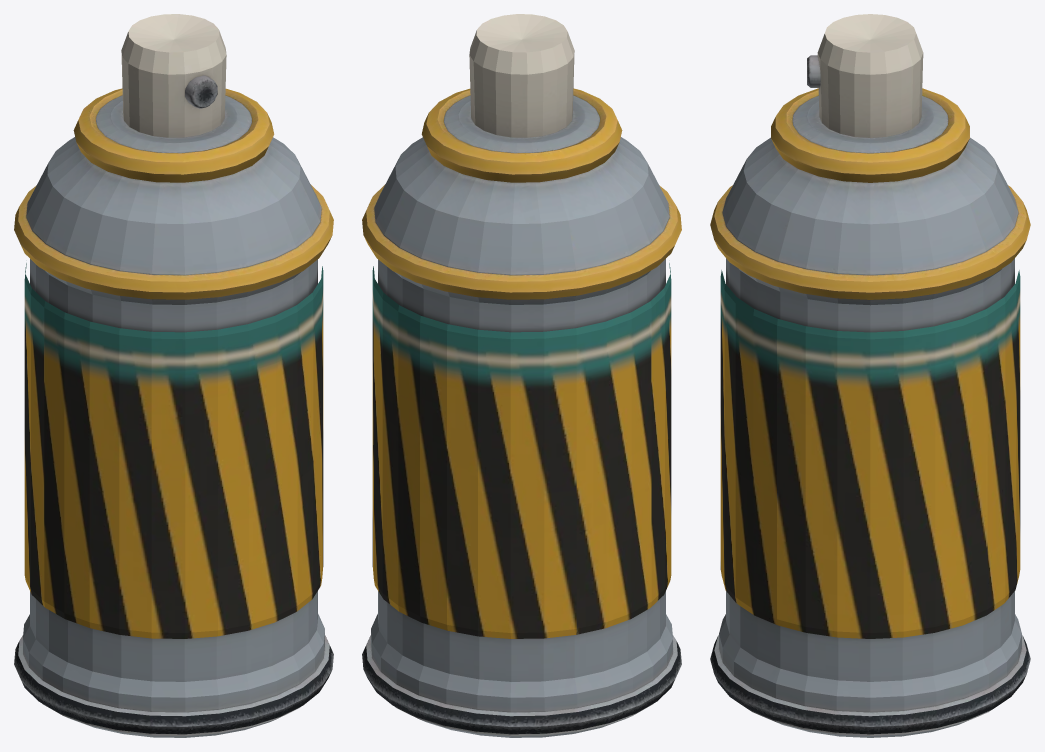
File: spray_can.glb
The picture shows the model from 3 angles, left to right: view 1: azimuth 30°, elevation 25°; view 2: azimuth 150°, elevation 25°; view 3: azimuth 270°, elevation 25°; orthographic projection.
Visible parts, largest first — view 1: SprayCan; view 2: SprayCan; view 3: SprayCan.
Part boxes in pixels (x1=…): SprayCan: x1=14, y1=14, x2=333, y2=737; SprayCan: x1=362, y1=14, x2=681, y2=737; SprayCan: x1=710, y1=14, x2=1030, y2=737.
Size of the model in its own units: 0.091 by 0.202 by 0.091.
1 material, 1 textured.
